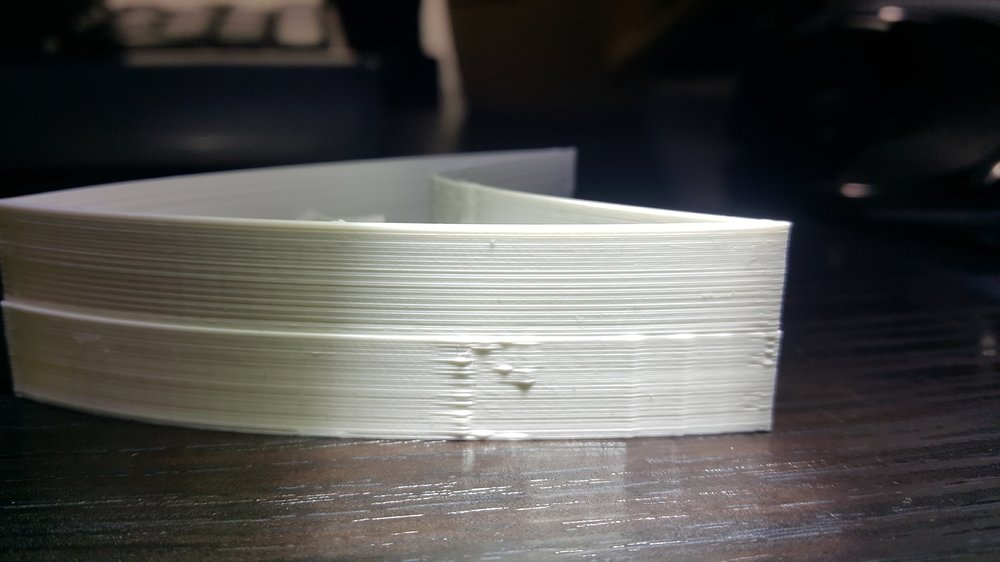blob: (436, 343, 576, 447)
